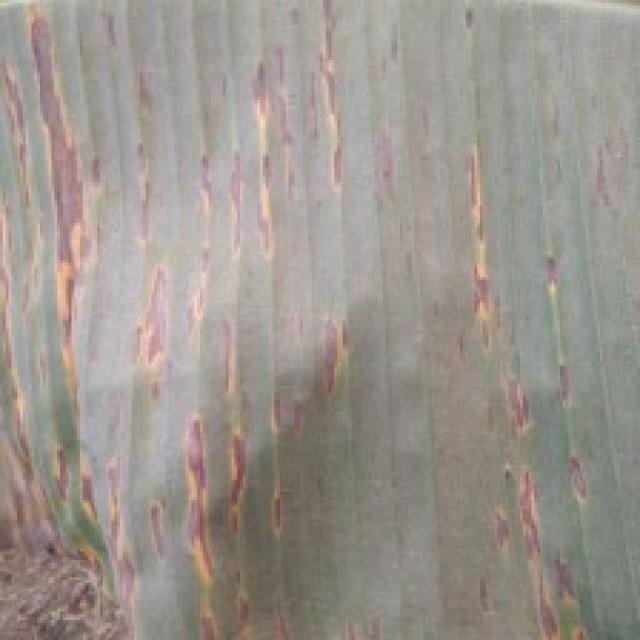Early_leaf_spot: (113, 42, 382, 423), (439, 123, 625, 640), (20, 5, 109, 419), (170, 399, 316, 640), (9, 422, 176, 606), (283, 0, 386, 202), (0, 52, 60, 396), (455, 0, 489, 48)
